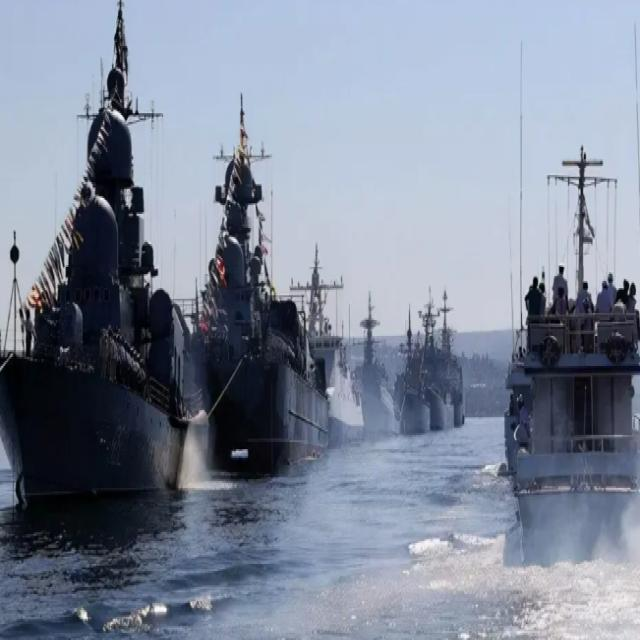navalvessels: (0, 0, 189, 500), (180, 89, 330, 475), (507, 147, 640, 562), (289, 231, 363, 443), (351, 281, 398, 439), (427, 287, 467, 429), (399, 303, 429, 434)
